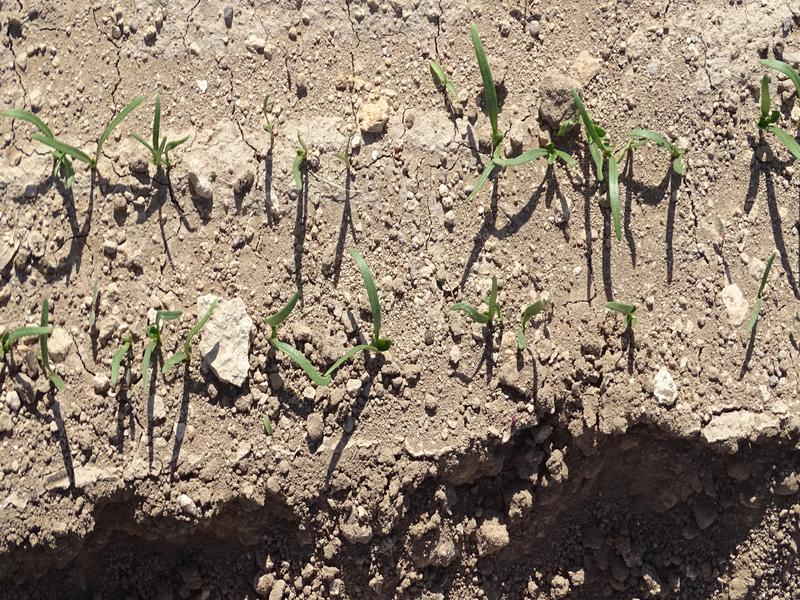Espinaca: (505, 87, 682, 227), (266, 247, 385, 392), (7, 104, 135, 180), (114, 304, 215, 382), (754, 55, 800, 164), (2, 305, 54, 387), (472, 32, 497, 196), (139, 107, 179, 172), (456, 276, 501, 325), (514, 299, 550, 351)
